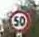limite 50: (8, 9, 29, 29)
